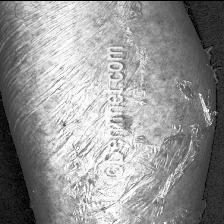Non-Cancerous Skin Condition: (130, 44, 190, 206)
